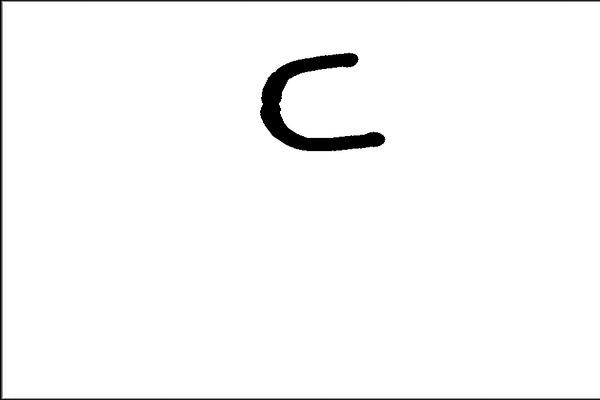C: (255, 46, 389, 156)
